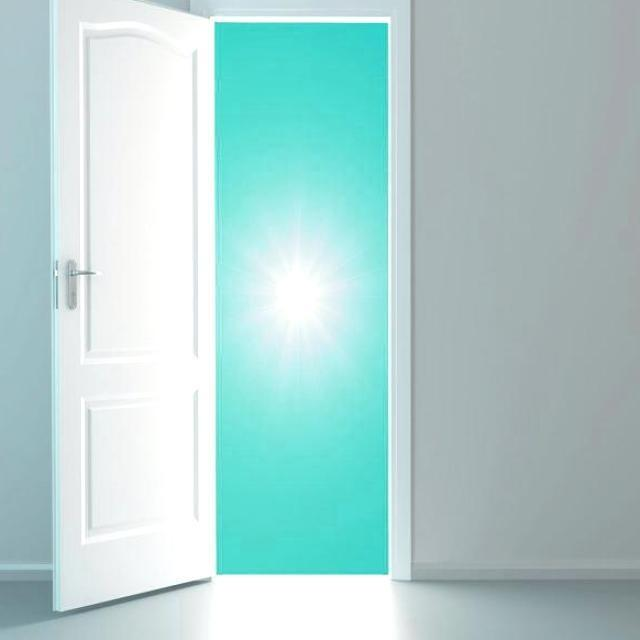door: (50, 0, 216, 612)
